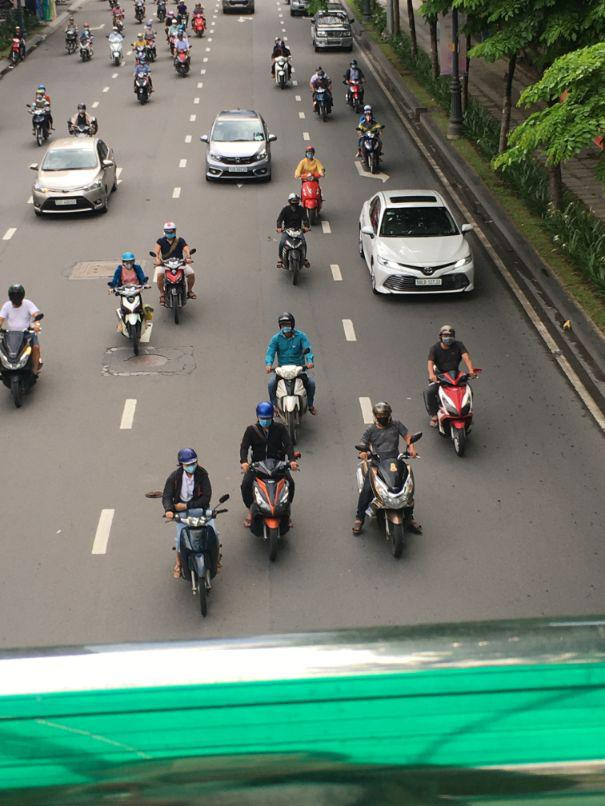car: (359, 192, 477, 300), (30, 137, 120, 221), (203, 109, 277, 186), (313, 6, 354, 55)
motorbike: (352, 447, 423, 563), (243, 453, 299, 559), (174, 503, 222, 615), (428, 368, 478, 456), (0, 319, 44, 406), (268, 367, 307, 445), (113, 286, 152, 357), (157, 256, 192, 324), (275, 226, 312, 286), (356, 123, 387, 175), (302, 180, 324, 229), (30, 104, 54, 147), (67, 104, 96, 137), (133, 65, 151, 104), (315, 86, 335, 121), (273, 58, 292, 88), (175, 46, 192, 78)
